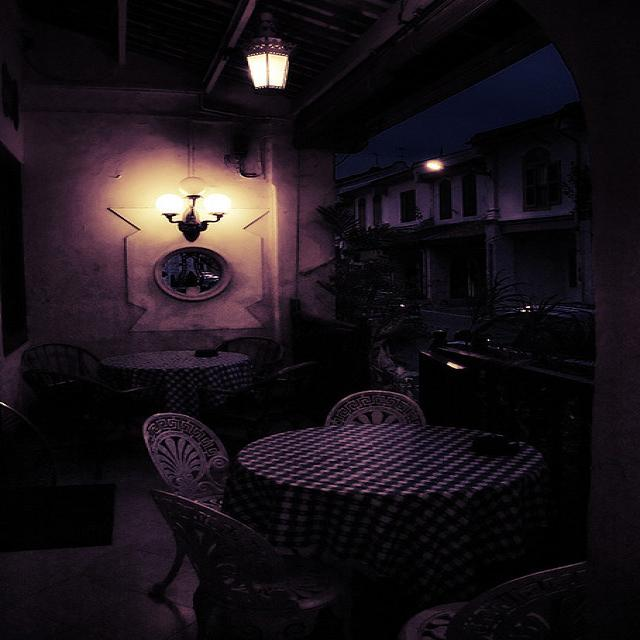Table: (232, 404, 559, 570)
chair: (156, 484, 329, 640), (413, 534, 640, 640), (111, 387, 226, 500), (307, 367, 444, 447)
